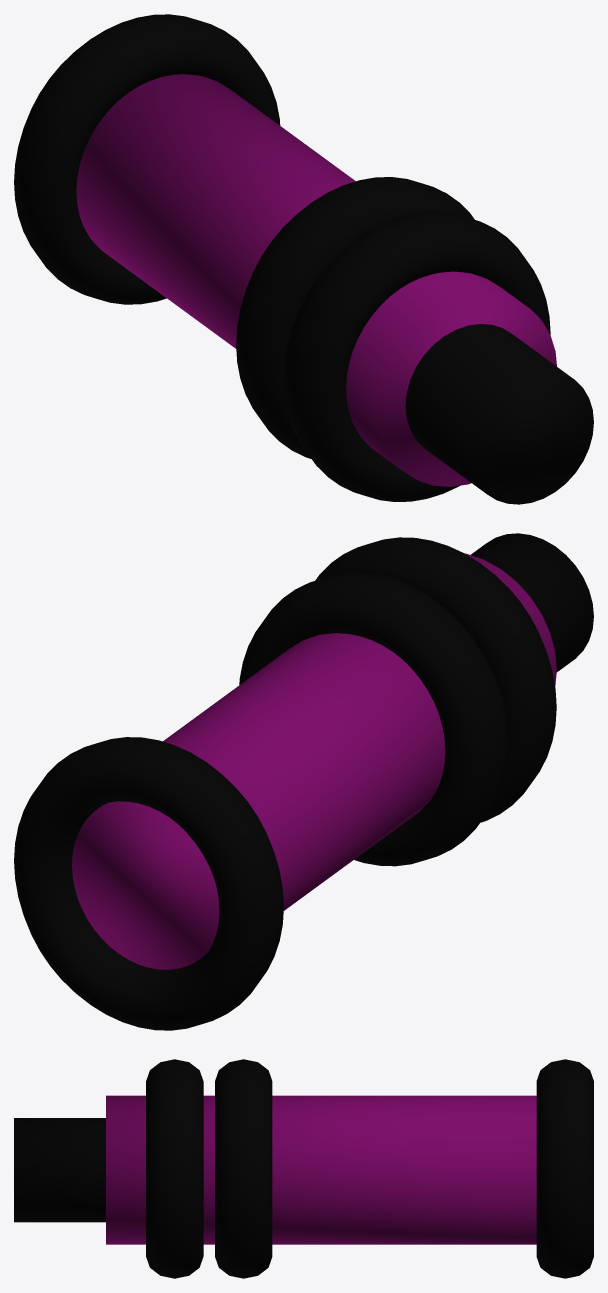
Rendered from enemy_mech_weapon.glb.
3 views of the same model, one above another, from view 1: azimuth 30°, elevation 25°; view 2: azimuth 150°, elevation 25°; view 3: azimuth 270°, elevation 25° (orthographic). The views are drawn at different scales.
Parts seen in each view (by area): view 1: Cylinder.007, Torus.026, Torus.028, Cylinder.009, Torus.027; view 2: Cylinder.007, Torus.028, Torus.027, Torus.026, Cylinder.009; view 3: Cylinder.007, Torus.026, Torus.028, Torus.027, Cylinder.009.
Boxes of the visible parts, x1=… form: Cylinder.007: x1=76, y1=74, x2=556, y2=486; Torus.026: x1=283, y1=211, x2=550, y2=501; Torus.028: x1=14, y1=14, x2=280, y2=304; Cylinder.009: x1=405, y1=324, x2=593, y2=504; Torus.027: x1=236, y1=177, x2=474, y2=458; Cylinder.007: x1=72, y1=553, x2=556, y2=969; Torus.028: x1=14, y1=737, x2=283, y2=1030; Torus.027: x1=239, y1=572, x2=508, y2=866; Torus.026: x1=315, y1=537, x2=556, y2=822; Cylinder.009: x1=471, y1=533, x2=593, y2=672; Cylinder.007: x1=106, y1=1095, x2=536, y2=1244; Torus.026: x1=146, y1=1059, x2=203, y2=1278; Torus.028: x1=536, y1=1059, x2=593, y2=1278; Torus.027: x1=215, y1=1059, x2=272, y2=1278; Cylinder.009: x1=14, y1=1118, x2=105, y2=1222.
Bounding box in the file's own units: 1.85 × 1.92 × 5.05.
